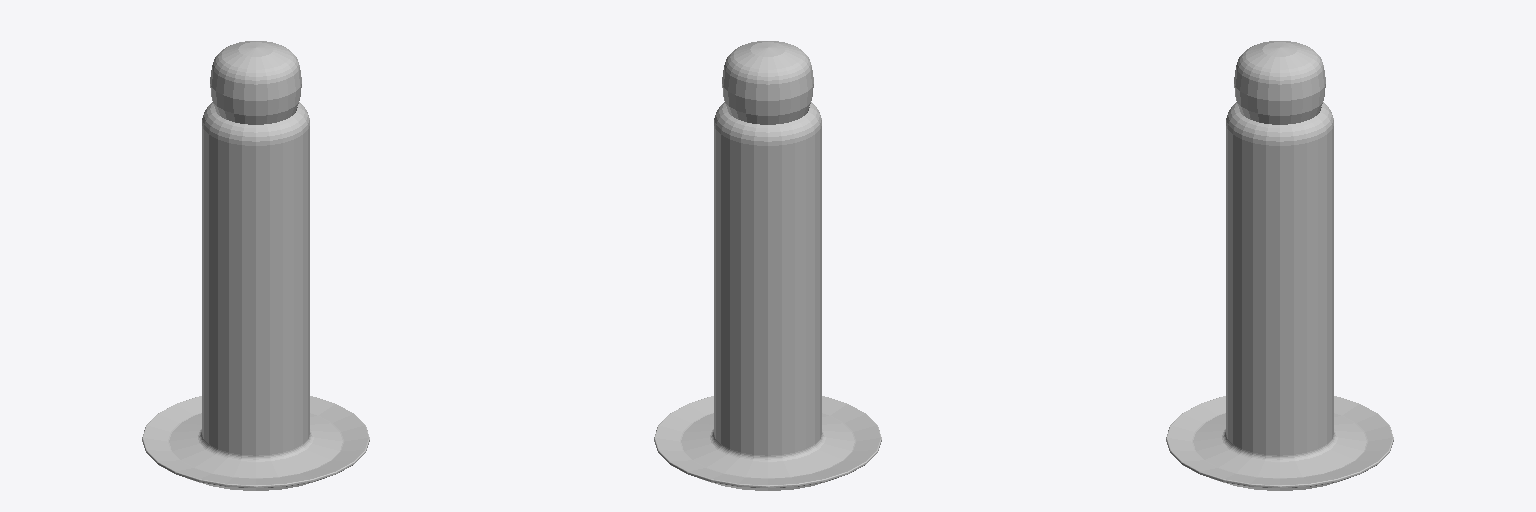
The model's file is _7525A470_18_8_Stainless_Steel_Blind_Rivets_06__7525A470_18_8_Stainless_Steel_Blind_Rivets.obj.
3 renders of one model, left to right at view 1: azimuth 30°, elevation 25°; view 2: azimuth 150°, elevation 25°; view 3: azimuth 270°, elevation 25°, orthographic.
Bounding box in the file's own units: 0.0083 × 0.0168 × 0.0083.